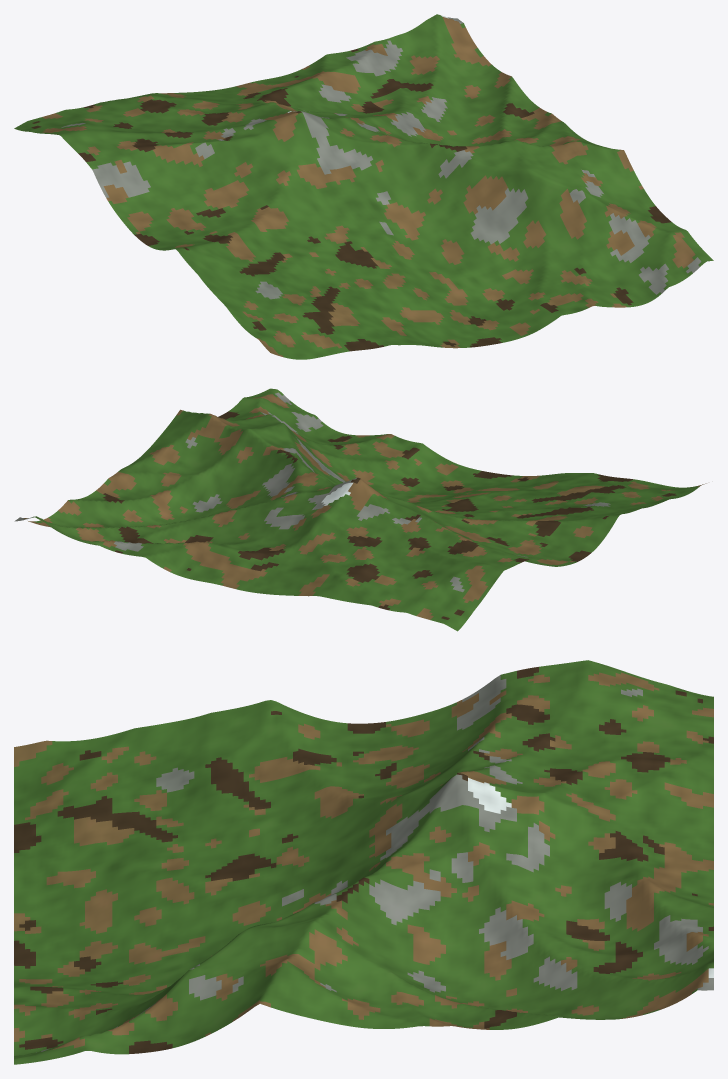
File: chunk_0_0.glb
The picture shows the model from 3 angles, top to bottom: view 1: azimuth 30°, elevation 25°; view 2: azimuth 150°, elevation 25°; view 3: azimuth 270°, elevation 25°; orthographic projection. The views are drawn at different scales.
Visible parts, largest first — view 1: Surface_Grass, Surface_Dirt, Surface_Gravel, Surface_Mud; view 2: Surface_Grass, Surface_Dirt, Surface_Mud, Surface_Gravel; view 3: Surface_Grass, Surface_Dirt, Surface_Gravel, Surface_Mud, Surface_Snow.
Boxes of the visible parts, x1,y1,x2,y2 form: Surface_Grass: (14, 14, 713, 359); Surface_Dirt: (42, 17, 695, 357); Surface_Gravel: (61, 17, 701, 299); Surface_Mud: (31, 49, 671, 351); Surface_Grass: (32, 388, 699, 631); Surface_Dirt: (23, 394, 706, 619); Surface_Mud: (103, 411, 676, 619); Surface_Gravel: (14, 392, 610, 592); Surface_Grass: (14, 660, 713, 1064); Surface_Dirt: (14, 672, 713, 1049); Surface_Gravel: (36, 675, 713, 1052); Surface_Mud: (14, 667, 713, 1053); Surface_Snow: (468, 777, 713, 977).
Bounding box in the file's own units: 256 × 67.15 × 256.
